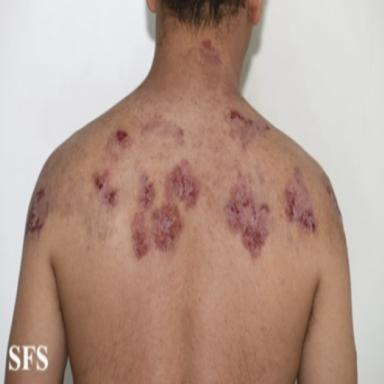Hailey-Hailey-Disease: (131, 160, 201, 259), (226, 172, 269, 257), (284, 169, 317, 232), (224, 108, 270, 149), (141, 114, 185, 145), (25, 188, 49, 236), (92, 169, 118, 206), (106, 128, 133, 161), (199, 39, 221, 65)
